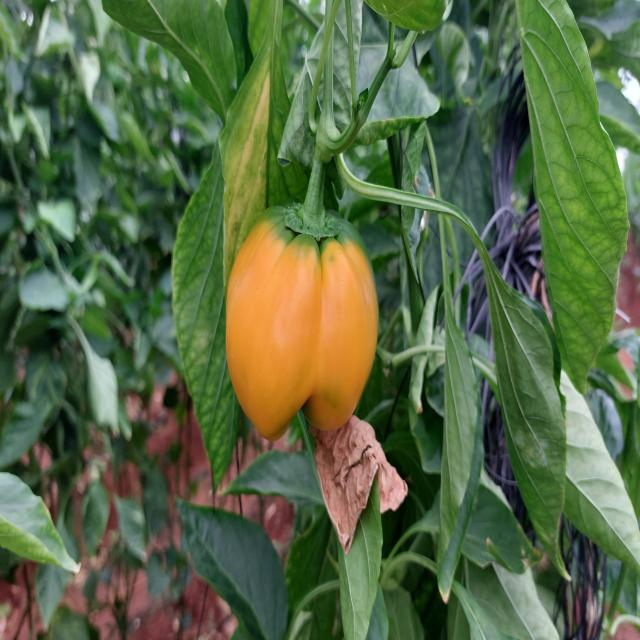Yellow-Ready-to-Harvest: (224, 207, 380, 443)
